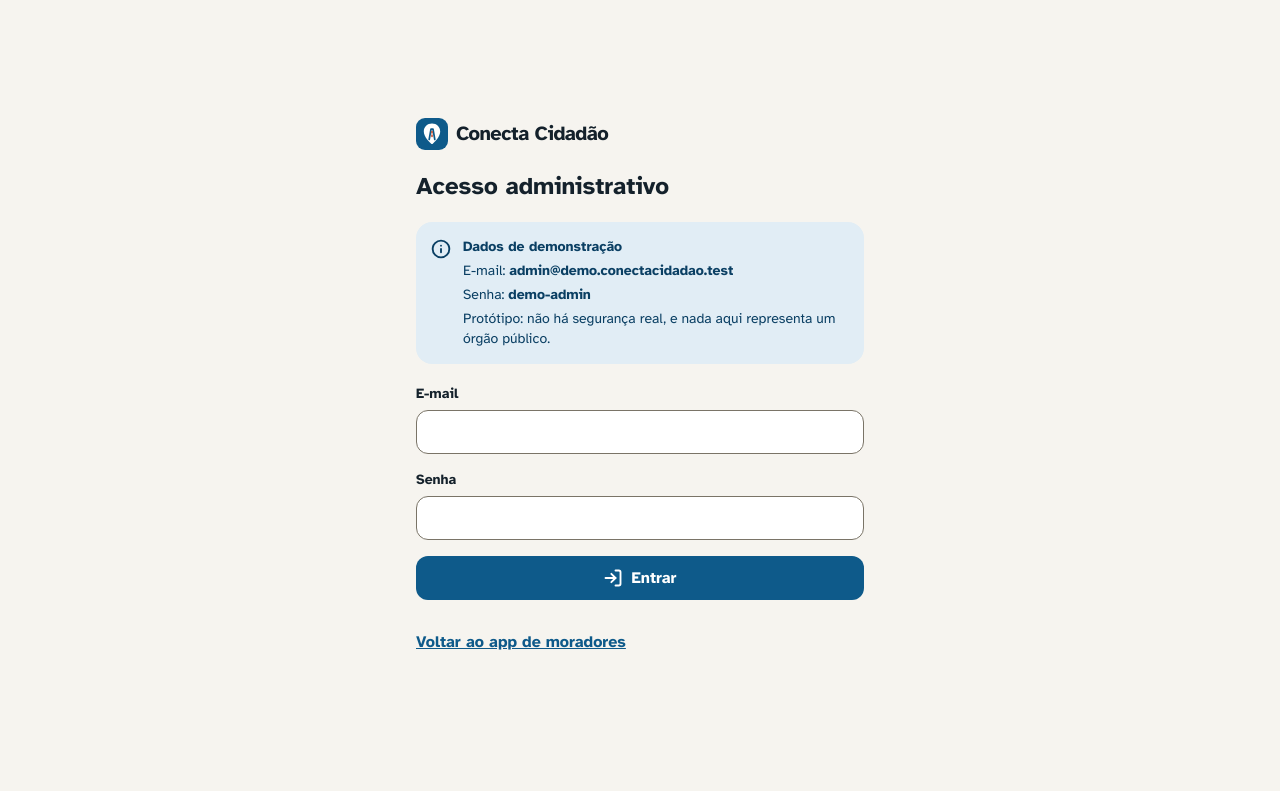
painel: fila de ocorrências › lista só as abertas, da maior para a menor pontuação
Type "admin@demo.conectacidadao.test" into the field labelled "E-mail" at (640, 432), box [416,410,864,454]
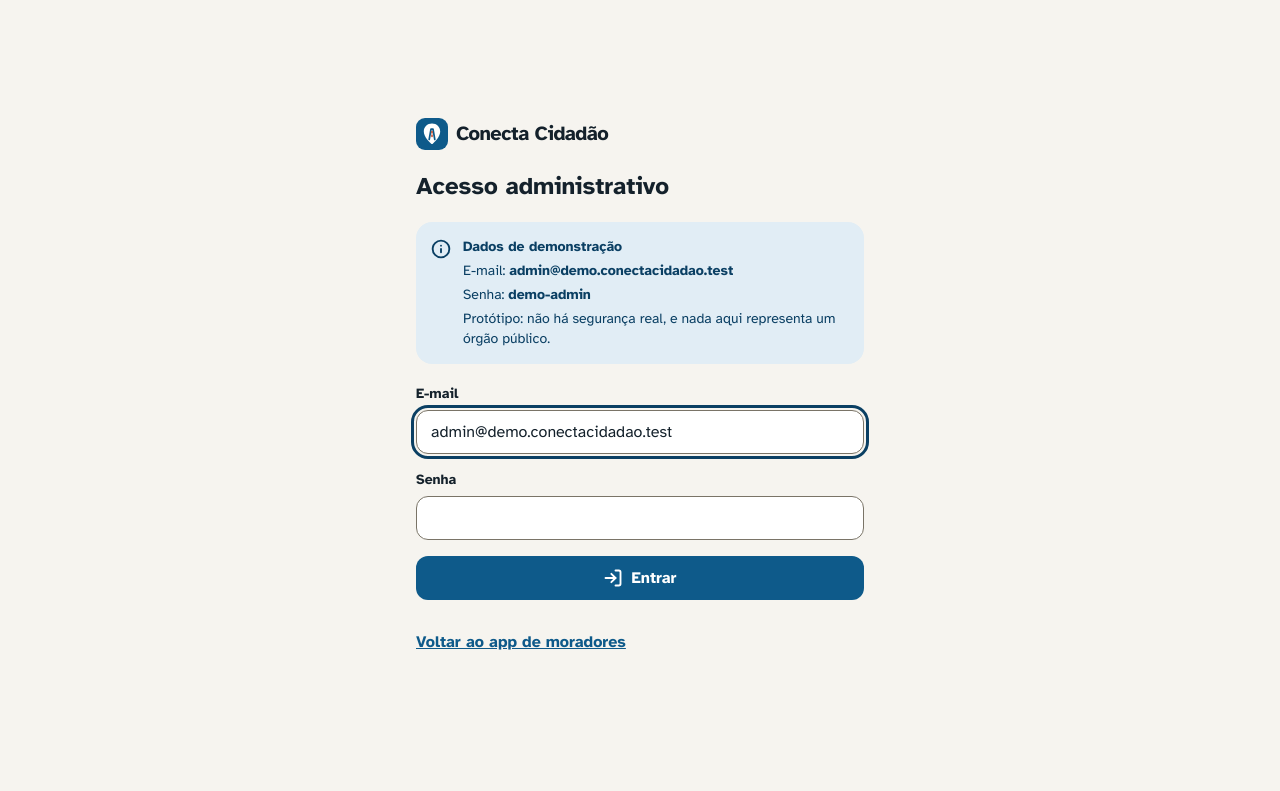
Type "demo-admin" into the password field labelled "Senha" at (640, 518), box [416,496,864,540]
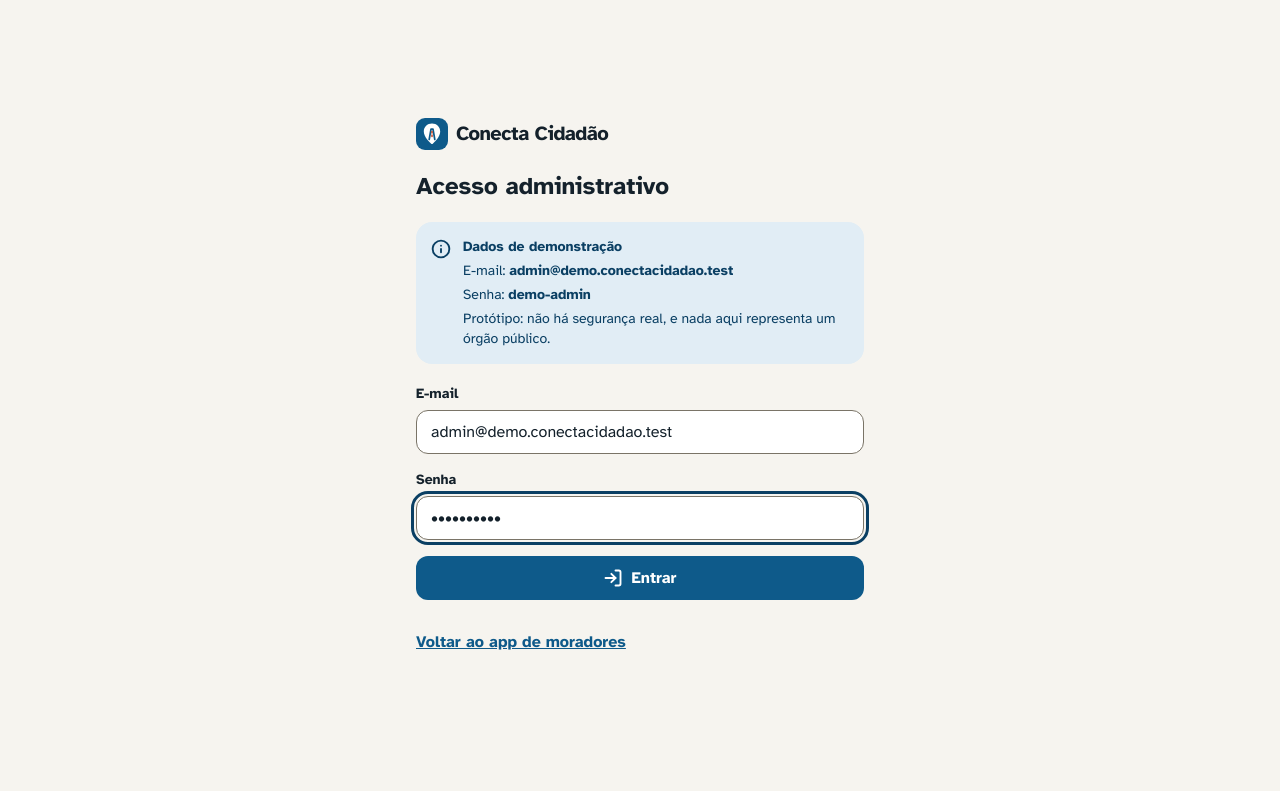
Click the button "Entrar" at (640, 578), box [416,556,864,600]
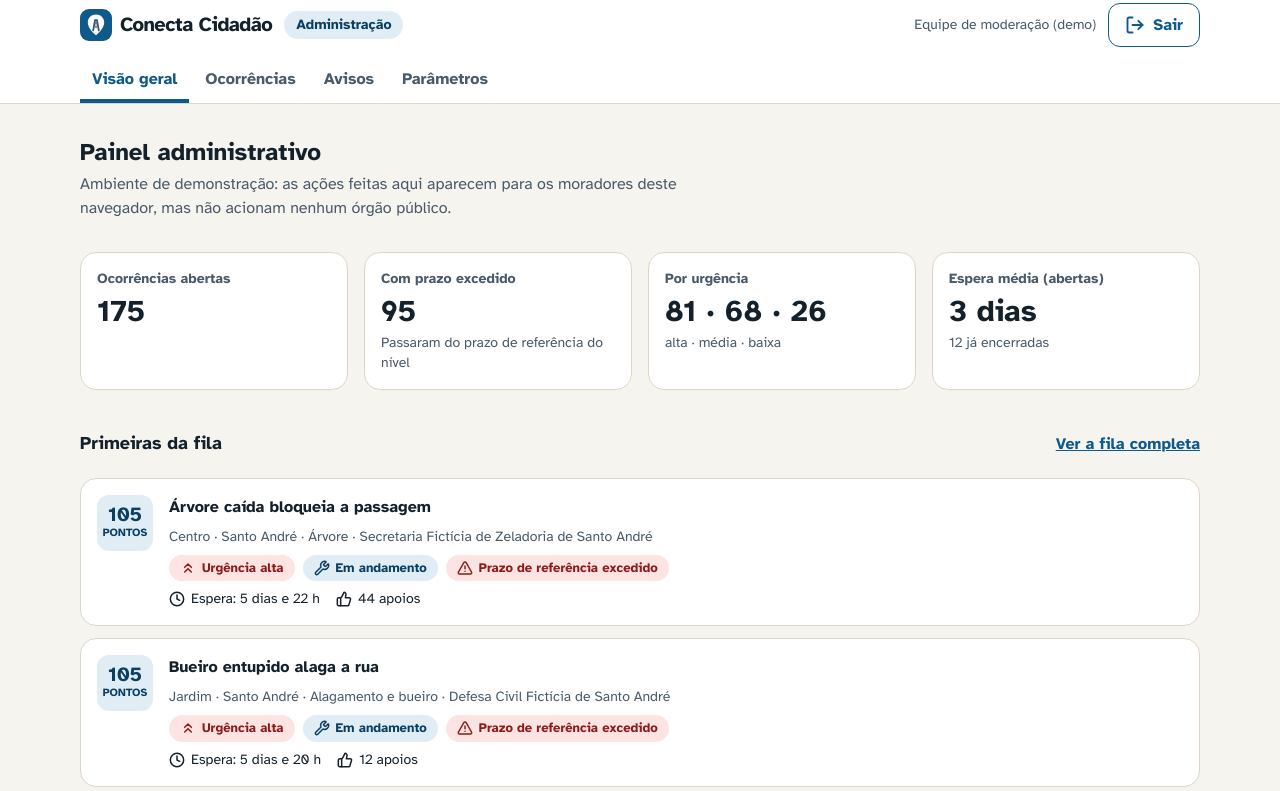
Click the link "Ocorrências" at (251, 79), box [205,69,296,89]
(page scrolled)
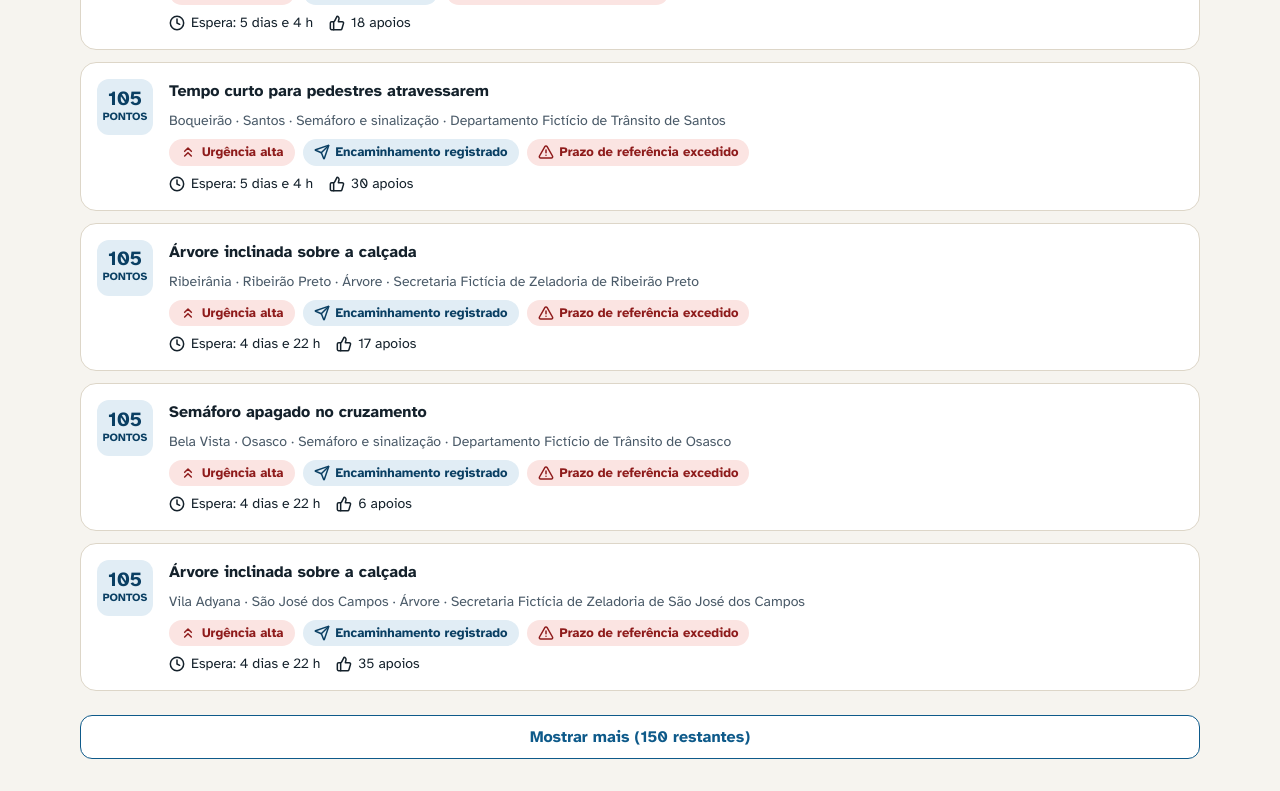
Now the button "Mostrar mais (150 restantes)" is shown, box [80,715,1200,759]
